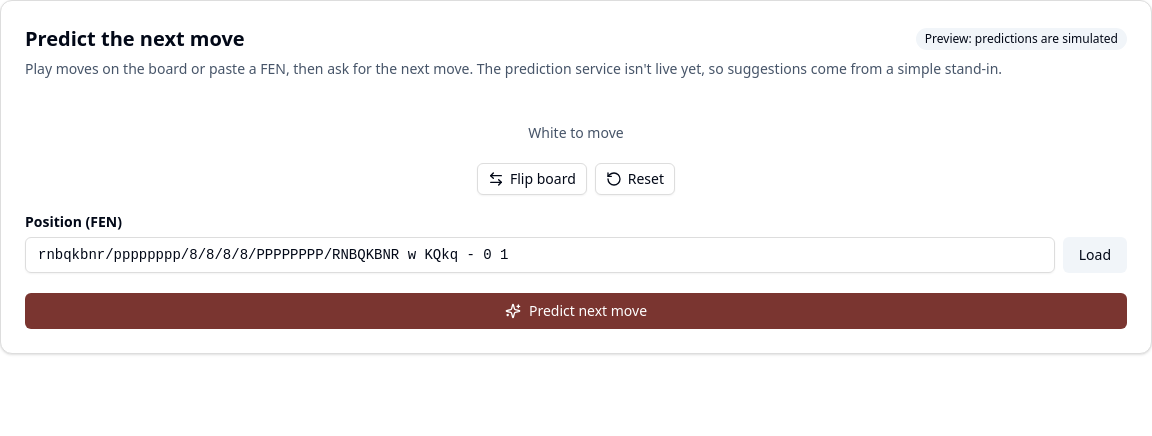
Test: PositionPredictor › shows a clear message when the game is already over
The width and height of the screenshot is (1152, 436).
Step 1. Click the button "Predict next move" → click(576, 311), box [25,293,1127,329]
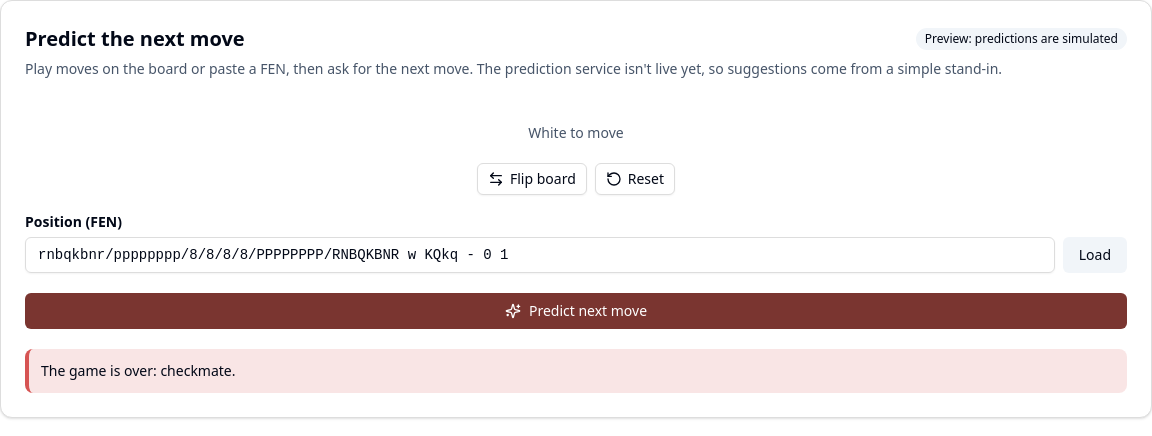
Result: the message "The game is over: checkmate." is shown at [25,349,1127,393]
